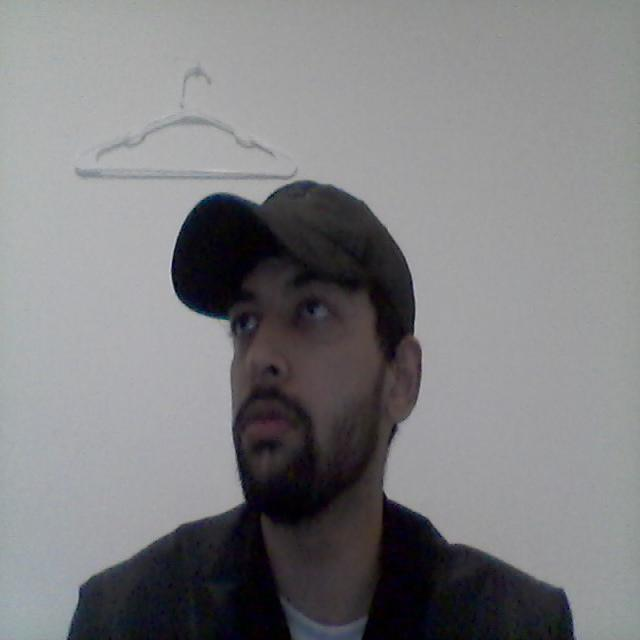cap: (149, 145, 446, 400)
